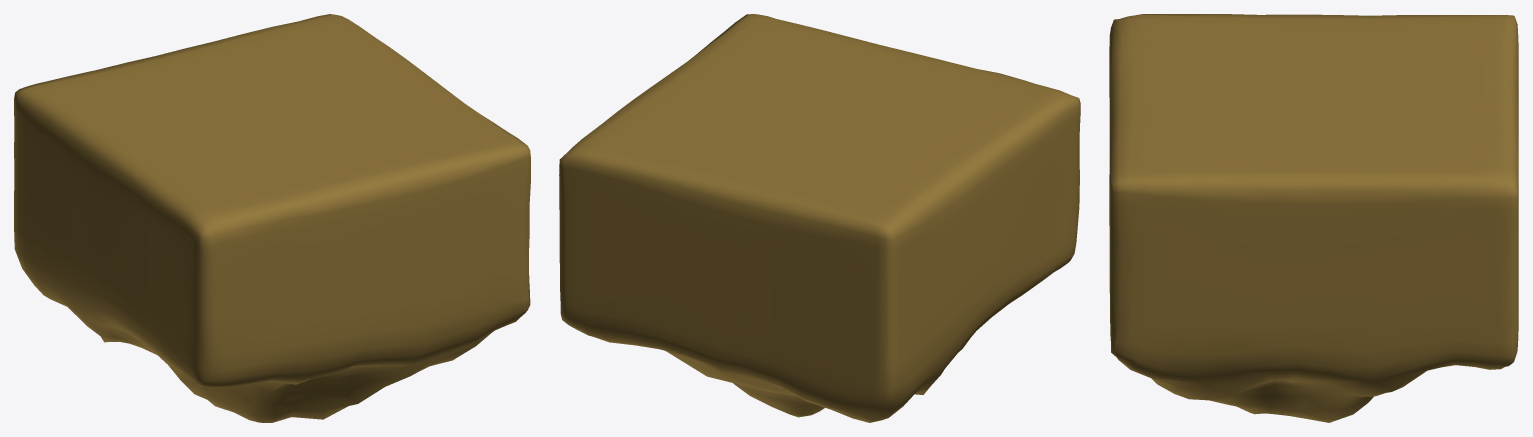
File: CubePlatform.fbx
3 views of the same model, side by side, from view 1: azimuth 30°, elevation 25°; view 2: azimuth 150°, elevation 25°; view 3: azimuth 270°, elevation 25° (orthographic). The views are drawn at different scales.
Parts seen in each view (by area): view 1: Retopo_Cube.002; view 2: Retopo_Cube.002; view 3: Retopo_Cube.002.
Boxes of the visible parts, x1,y1,x2,y2 form: Retopo_Cube.002: [14, 14, 530, 422]; Retopo_Cube.002: [559, 14, 1080, 422]; Retopo_Cube.002: [1109, 14, 1518, 422].
Size of the model in its own units: 200 by 168 by 200.
